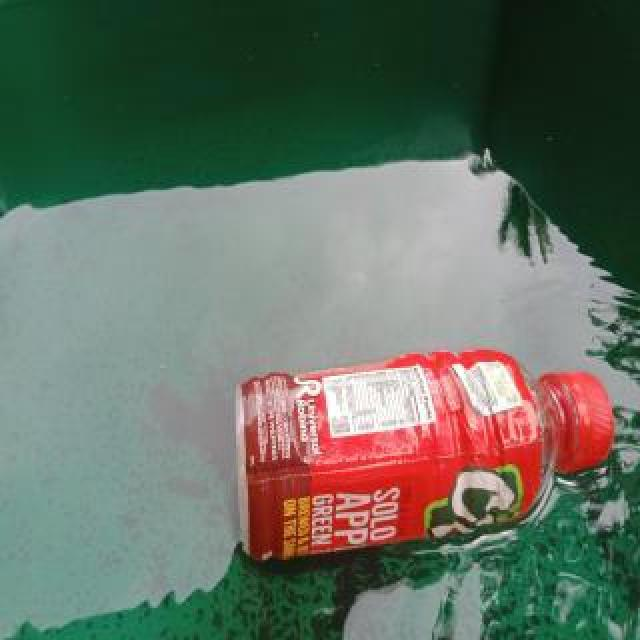bottle: (232, 344, 618, 568)
